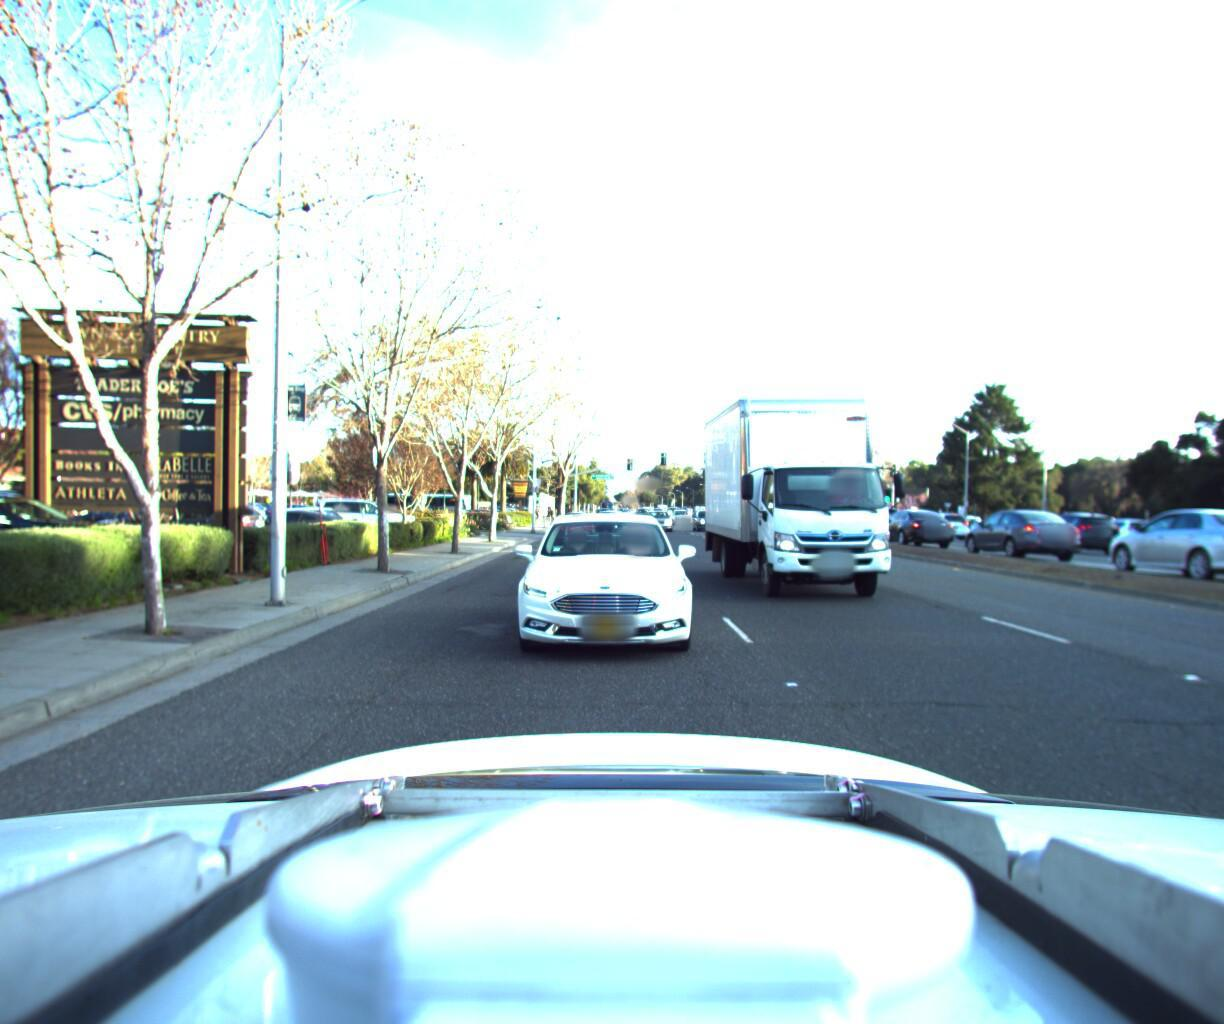car: (512, 502, 694, 679), (79, 490, 276, 555), (1091, 499, 1224, 586), (953, 500, 1090, 557), (213, 500, 363, 552), (236, 498, 394, 544), (999, 499, 1113, 549), (311, 490, 419, 528), (869, 499, 957, 542), (1076, 509, 1164, 549), (910, 502, 966, 533), (638, 495, 676, 526), (693, 508, 732, 533), (671, 508, 695, 525)
truck: (703, 350, 948, 621)
